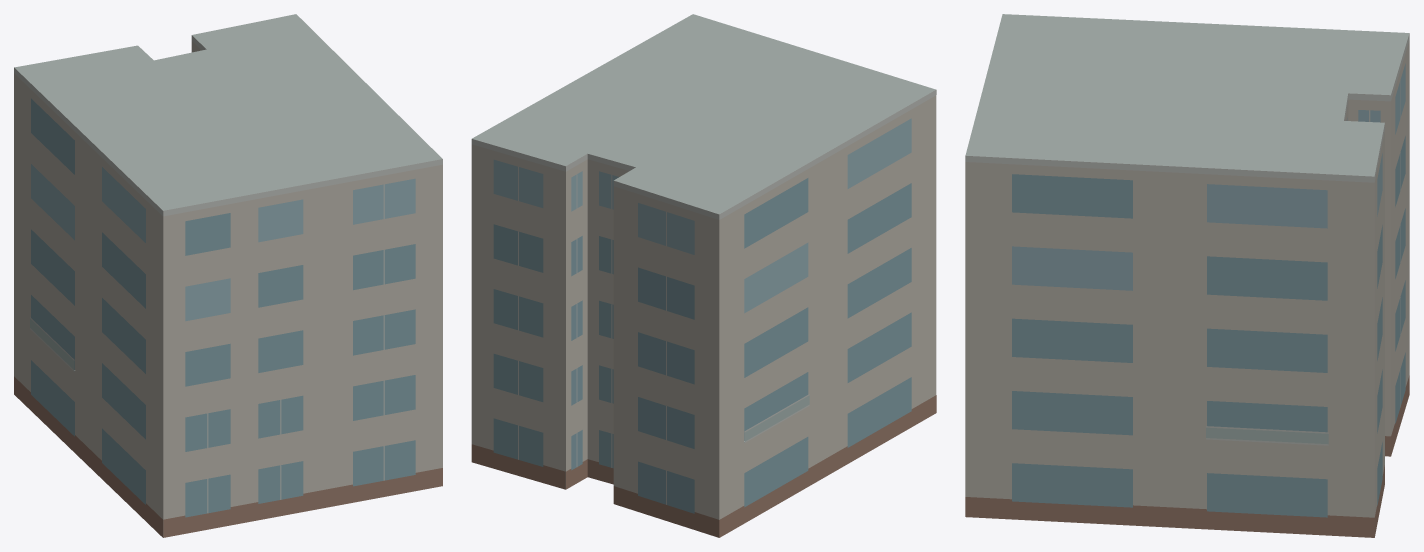
The model's file is survey-upis-32812981.glb.
The picture shows the model from 3 angles, left to right: view 1: azimuth 30°, elevation 25°; view 2: azimuth 150°, elevation 25°; view 3: azimuth 270°, elevation 25°; orthographic projection. The views are drawn at different scales.
Parts seen in each view (by area): view 1: survey-upis-32812981.tmp; view 2: survey-upis-32812981.tmp; view 3: survey-upis-32812981.tmp.
Boxes of the visible parts, bbox=[...] form: survey-upis-32812981.tmp: bbox=[14, 14, 442, 537]; survey-upis-32812981.tmp: bbox=[471, 14, 936, 537]; survey-upis-32812981.tmp: bbox=[965, 14, 1409, 537].
Size of the model in its own units: 13.71 by 14.19 by 15.82.
